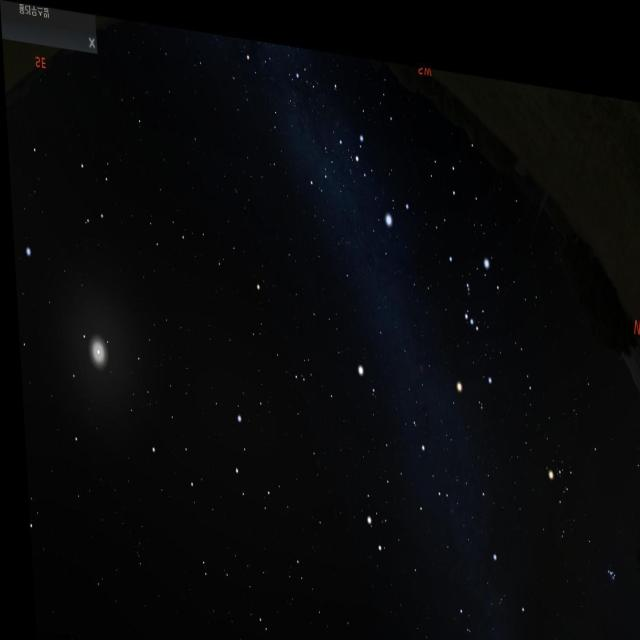canis_major: (348, 110, 414, 228)
canis_minor: (350, 345, 380, 396)
gemini: (343, 387, 453, 552)
leo: (141, 367, 279, 515)
moon: (69, 317, 112, 389)
orion: (437, 219, 502, 406)
pleiades: (597, 538, 617, 570)
taurus: (528, 417, 626, 592)
